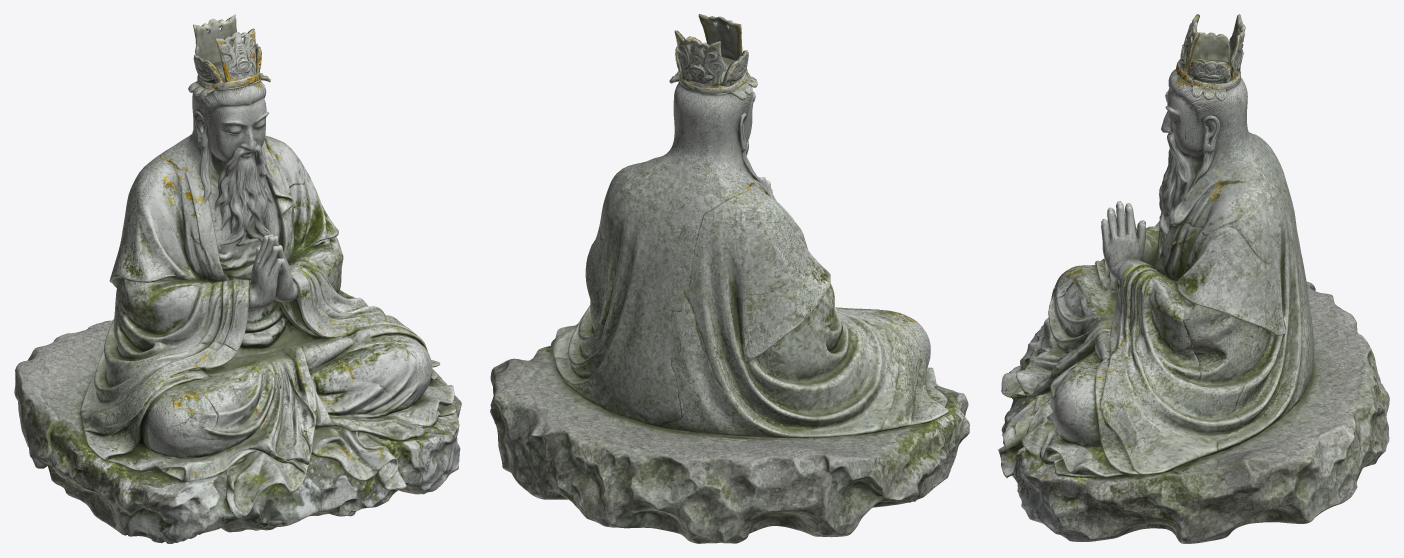
File: seated_sage.glb
The picture shows the model from 3 angles, left to right: view 1: azimuth 30°, elevation 25°; view 2: azimuth 150°, elevation 25°; view 3: azimuth 270°, elevation 25°; orthographic projection. The views are drawn at different scales.
Visible parts, largest first — view 1: clean; view 2: clean; view 3: clean.
Boxes of the visible parts, x1,y1,x2,y2 form: clean: (14, 14, 461, 543); clean: (490, 14, 969, 543); clean: (998, 14, 1389, 543).
Bounding box in the file's own units: 138 × 150 × 120.
Materials: 1 (1 with a texture image).
